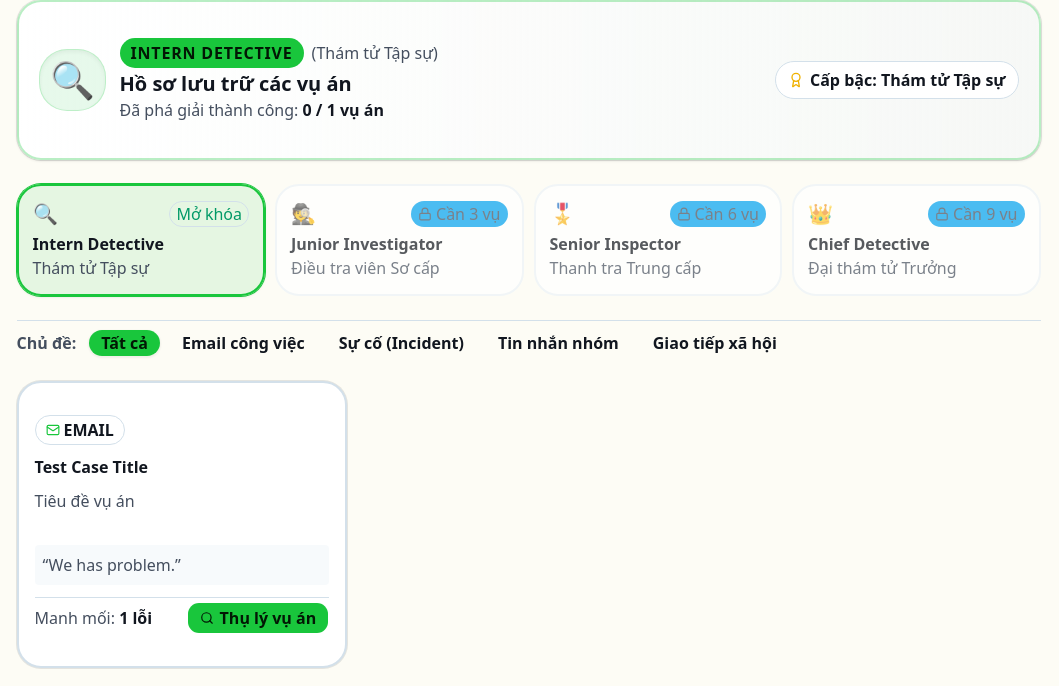
Test: DossierSelector component › shows empty state when category filter matches no cases and allows reset
Expected: the text "Test Case Title" is shown, [34,456,148,478]
Click the button "Sự cố (Incident)".
click(401, 343)  # box [326,329,477,357]
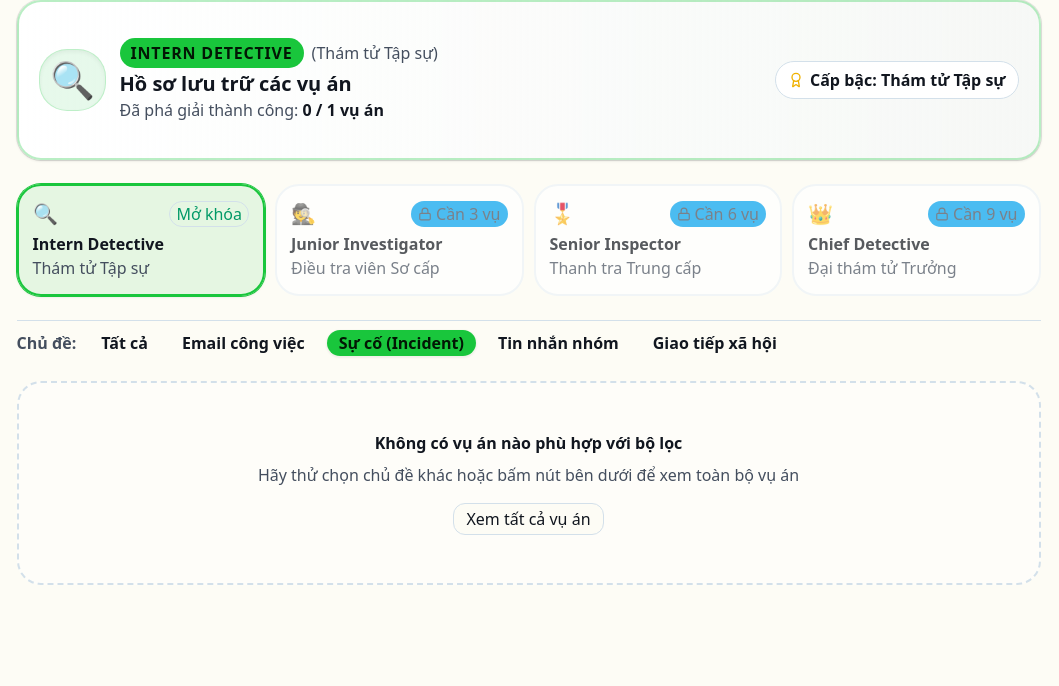
Expected: the text "Không có vụ án nào phù hợp với bộ lọc" is shown, [375,432,682,454]
Click the button "Xem tất cả vụ án".
click(529, 519)  # box [454,503,604,535]
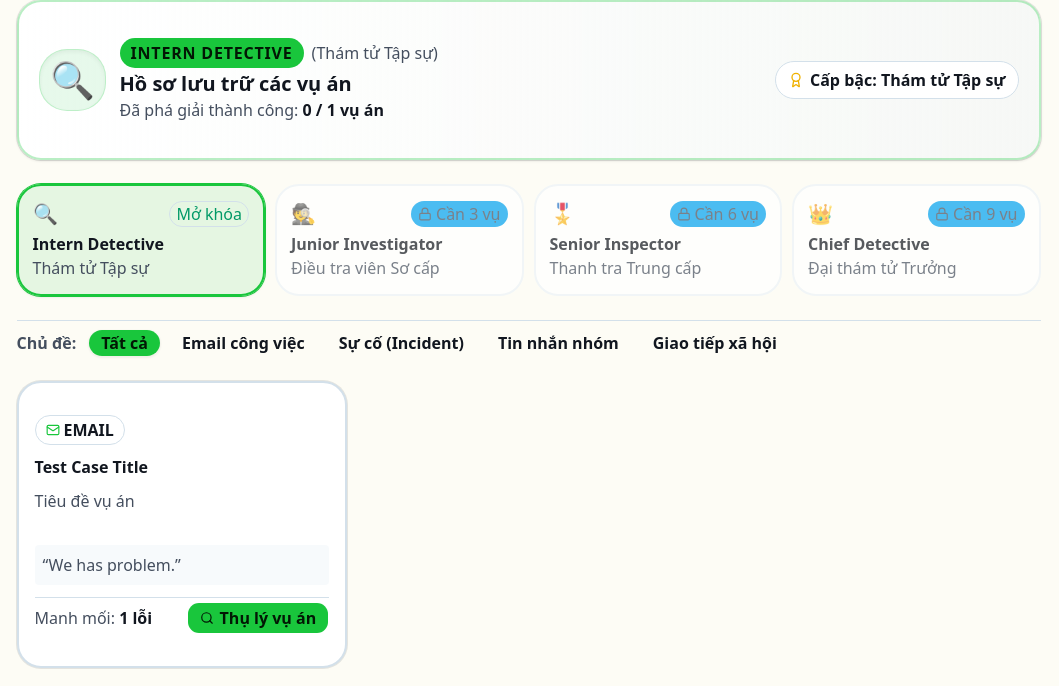
Expected: the text "Test Case Title" is shown, [34,456,148,478]
